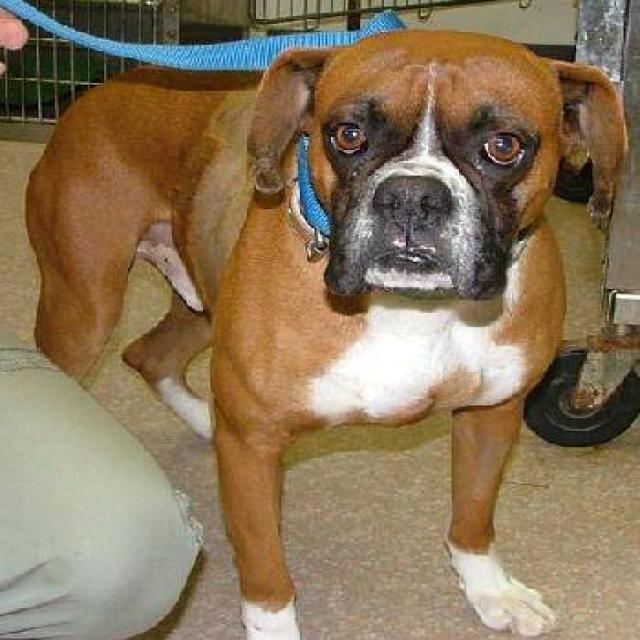dog: (22, 26, 625, 638)
